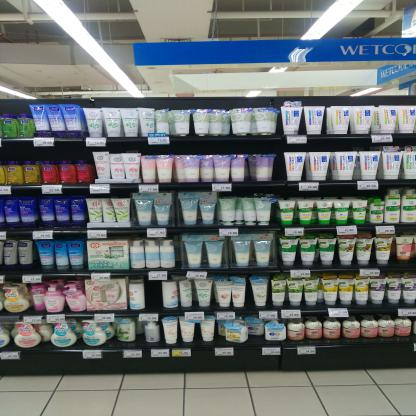Void: (141, 145, 281, 154), (305, 138, 371, 150), (6, 145, 83, 155), (146, 282, 160, 308)
